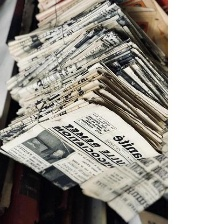news_paper: (0, 98, 162, 191), (76, 135, 184, 222)
